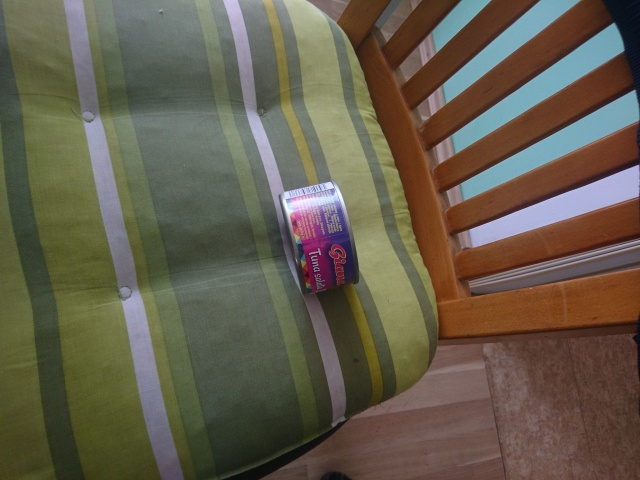Giana Tuna Salad Mexico 185g: (276, 177, 362, 300)
